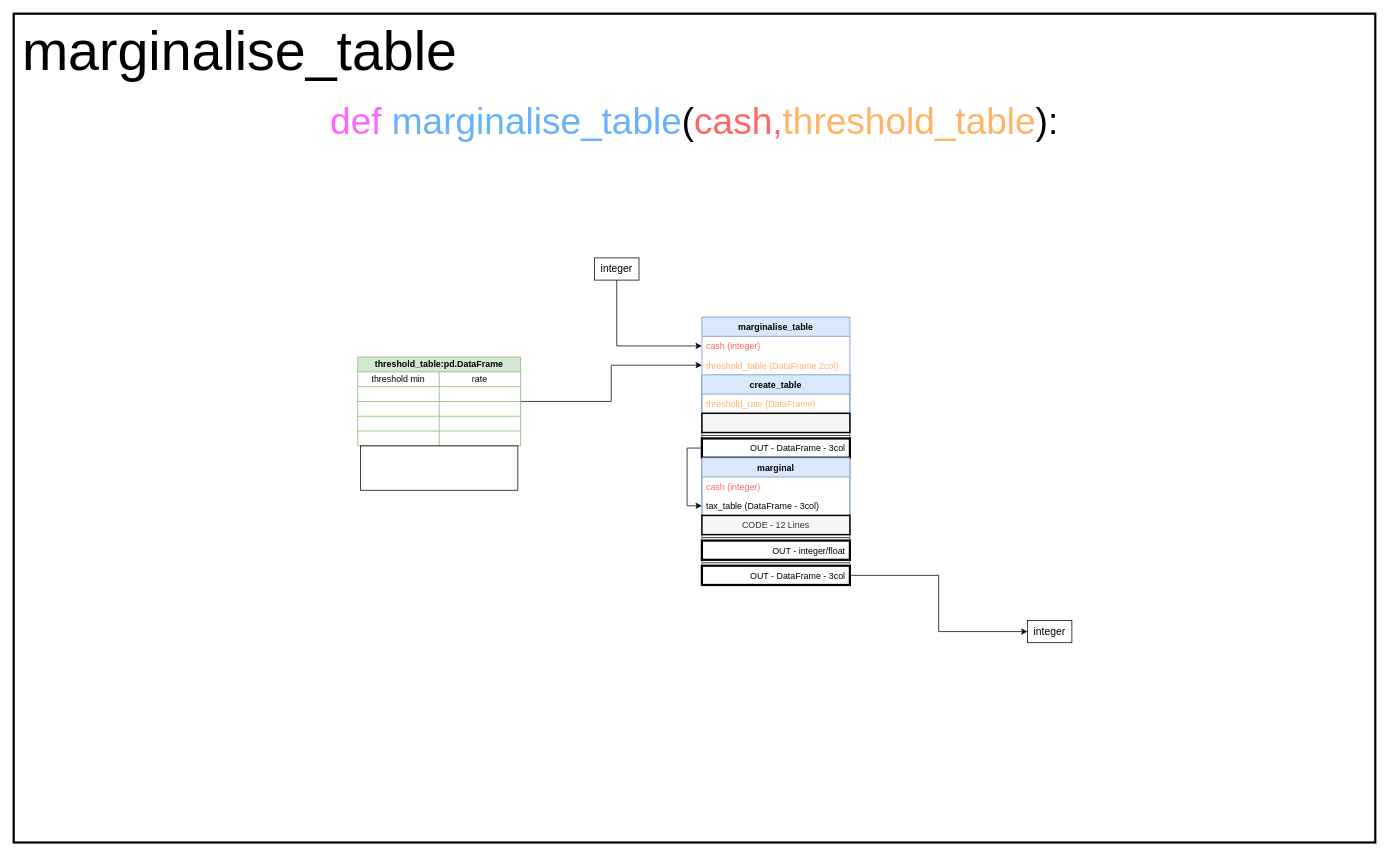
Image size: 1389x856. Some labels were removed from this diagram. Each missing label, with the centre of its shape:
"CODE - 4 Lines" belongs at [775,422].
"DataFrame must Contain Columns: 'threshold min' 'rate'" belongs at [439,467].
